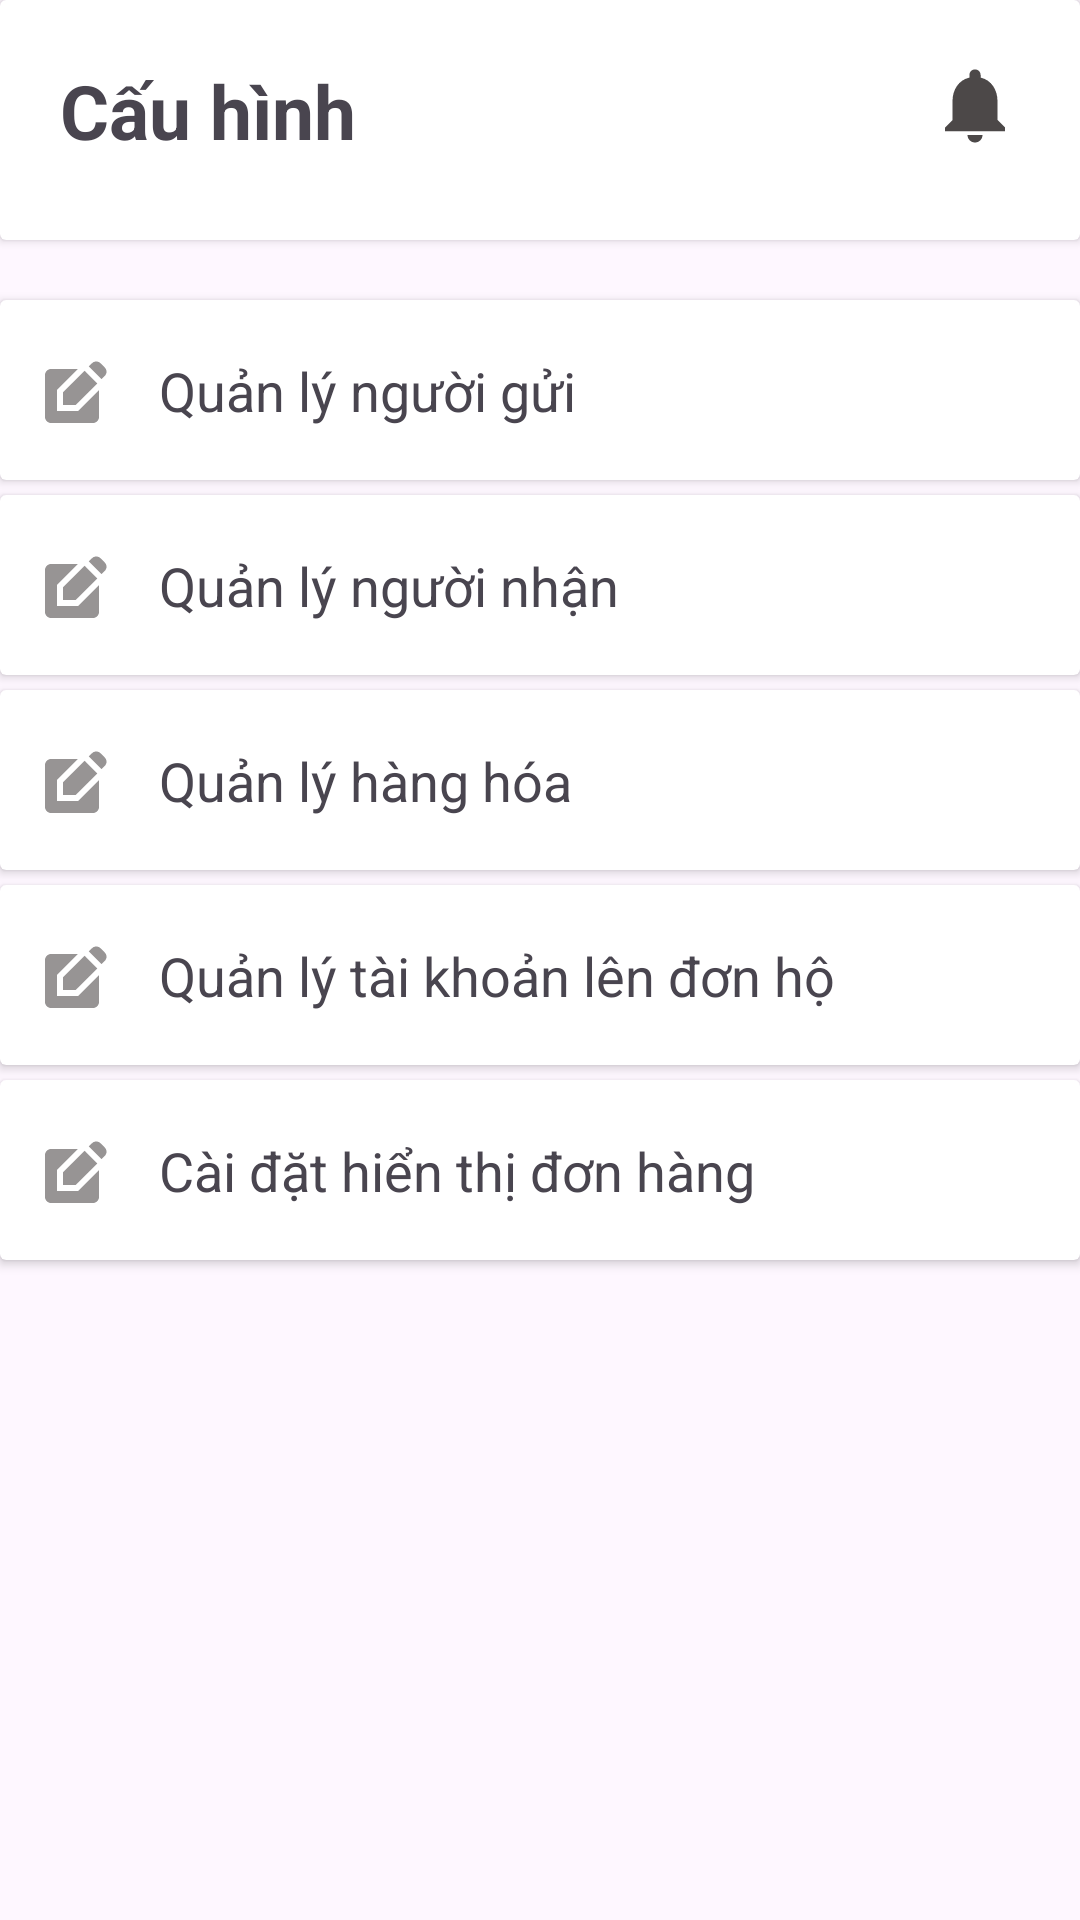

Icon bounding boxes for this 1080px x 1920px phone screenshot, format (x1, y1, x2, y2):
edit square: (45, 361, 107, 423), (45, 556, 107, 618), (45, 751, 107, 813), (45, 946, 107, 1008), (45, 1141, 107, 1203)
notifications: (945, 69, 1005, 143)
